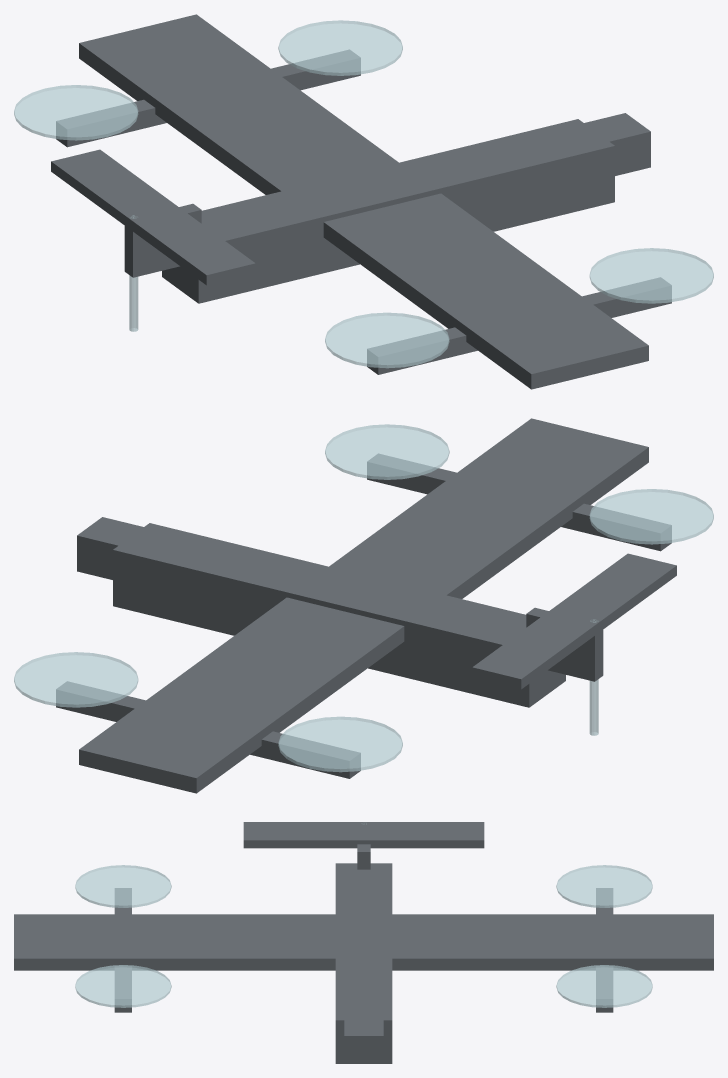
Rendered from vtol.glb.
3 views of the same model, one above another, from view 1: azimuth 30°, elevation 25°; view 2: azimuth 150°, elevation 25°; view 3: azimuth 270°, elevation 25° (orthographic). The views are drawn at different scales.
Visible parts, largest first — view 1: drone; view 2: drone; view 3: drone.
Boxes of the visible parts, x1=… form: drone: x1=14, y1=14, x2=713, y2=389; drone: x1=14, y1=418, x2=713, y2=793; drone: x1=14, y1=822, x2=713, y2=1063.
Bounding box in the file's own units: 1.04 × 0.22 × 1.6.
